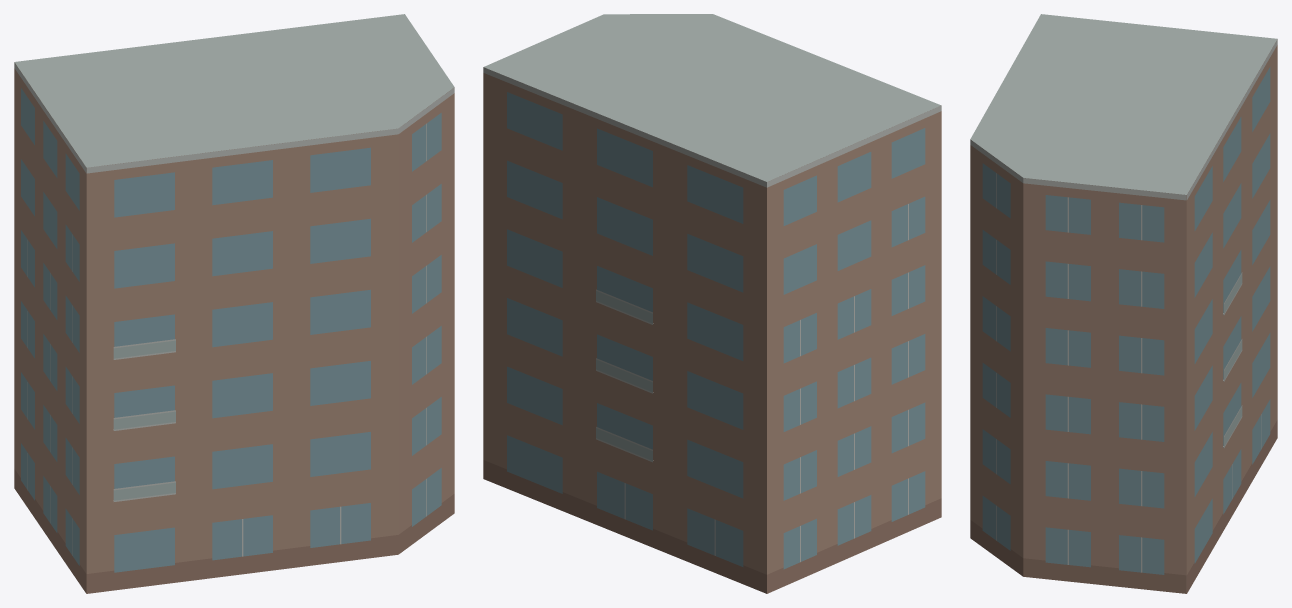
The model's file is survey-upis-32875310.glb.
3 views of the same model, side by side, from view 1: azimuth 30°, elevation 25°; view 2: azimuth 150°, elevation 25°; view 3: azimuth 270°, elevation 25° (orthographic). The views are drawn at different scales.
Parts seen in each view (by area): view 1: survey-upis-32875310.tmp; view 2: survey-upis-32875310.tmp; view 3: survey-upis-32875310.tmp.
Boxes of the visible parts, x1=… form: survey-upis-32875310.tmp: x1=14, y1=14, x2=454, y2=593; survey-upis-32875310.tmp: x1=483, y1=14, x2=941, y2=593; survey-upis-32875310.tmp: x1=970, y1=14, x2=1277, y2=593.
Size of the model in its own units: 17.23 by 17.7 by 12.37.
